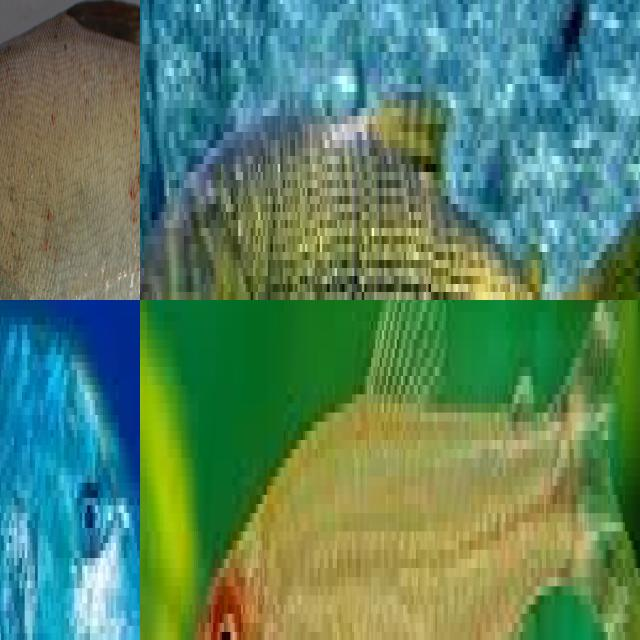fish: (140, 0, 640, 300), (288, 339, 640, 640), (0, 300, 140, 640), (0, 0, 140, 300)
